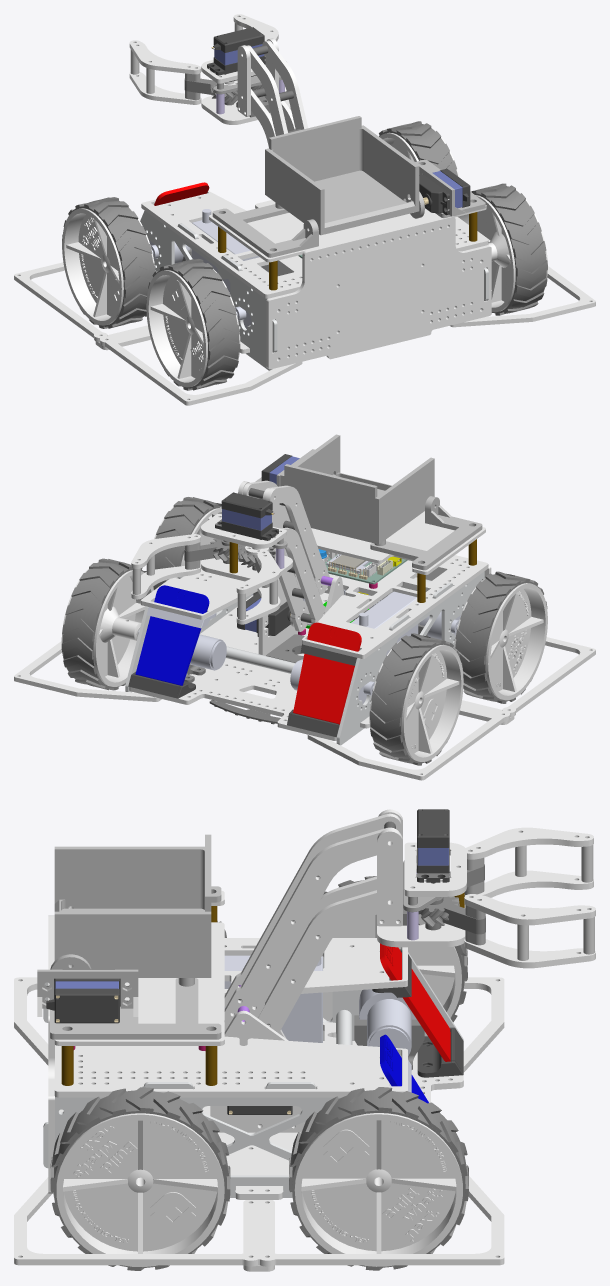
Rendered from argus-robot.glb.
3 renders of one model, top to bottom at view 1: azimuth 30°, elevation 25°; view 2: azimuth 150°, elevation 25°; view 3: azimuth 270°, elevation 25°, orthographic. The views are drawn at different scales.
Parts seen in each view (by area): view 1: NRL_Robot; view 2: NRL_Robot; view 3: NRL_Robot.
Part boxes in pixels (box(x1,y1,x2,y2)): NRL_Robot: box(14, 14, 595, 405); NRL_Robot: box(14, 434, 595, 780); NRL_Robot: box(14, 809, 595, 1271).
Bounding box in the file's own units: 0.0412 × 0.0226 × 0.0356.
